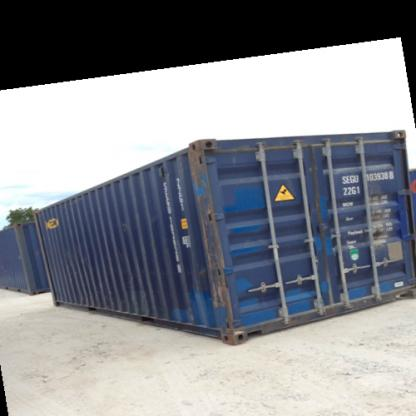Damage: (187, 146, 231, 314), (133, 276, 163, 318), (110, 212, 136, 235), (71, 288, 98, 304), (57, 242, 76, 264)
